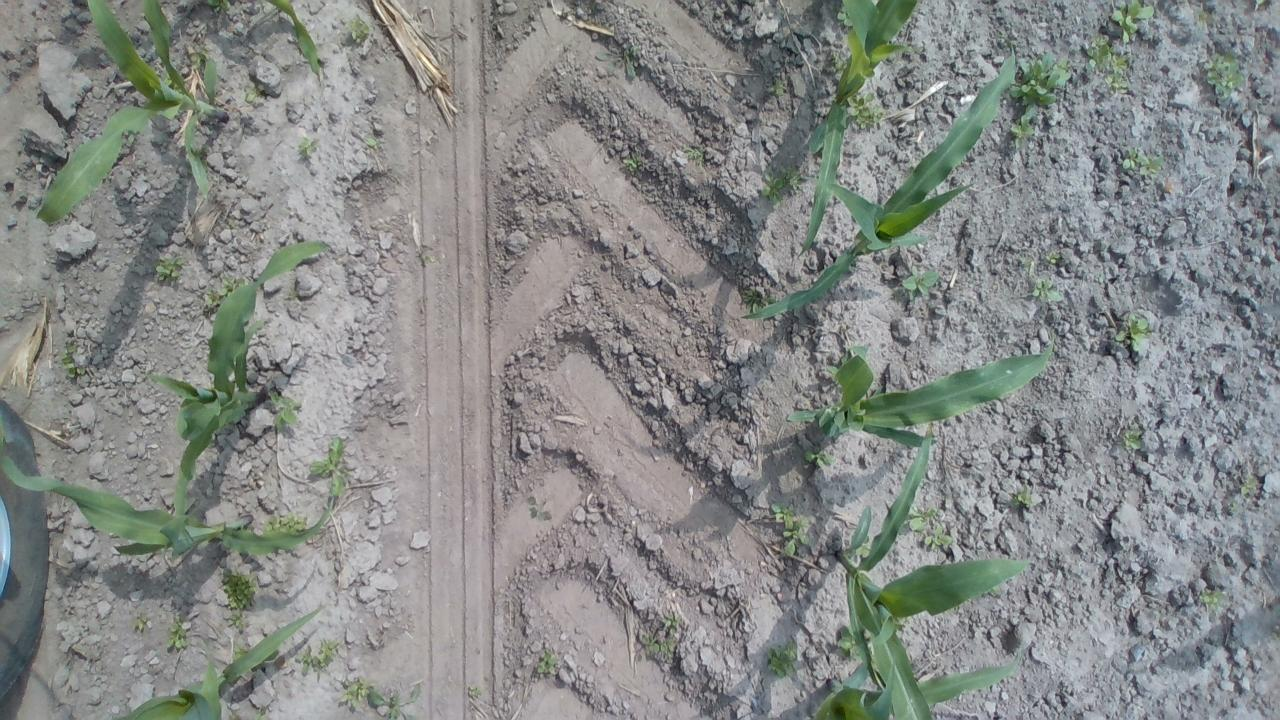Maize: (739, 36, 1018, 320), (836, 421, 1034, 720), (142, 239, 332, 512), (0, 414, 336, 556), (36, 1, 230, 225), (795, 0, 918, 262), (785, 340, 1054, 446), (112, 603, 324, 720), (814, 644, 1024, 720), (264, 0, 320, 78)
Weeds: (1010, 50, 1076, 108), (308, 433, 351, 498), (771, 500, 814, 559), (1204, 49, 1250, 102), (1114, 0, 1158, 45), (368, 683, 421, 720), (296, 638, 338, 678), (764, 632, 800, 678), (202, 275, 244, 314), (846, 92, 888, 130), (1114, 310, 1152, 352), (595, 46, 640, 80), (900, 264, 942, 300), (224, 568, 258, 612), (268, 390, 304, 430), (1122, 147, 1166, 177), (60, 336, 90, 380), (341, 674, 370, 716), (1104, 50, 1130, 96), (1084, 31, 1113, 72), (1008, 110, 1038, 148), (640, 630, 676, 658), (1030, 278, 1066, 304), (800, 445, 840, 468), (154, 255, 188, 282), (738, 290, 776, 312), (347, 11, 372, 44), (759, 171, 783, 205), (908, 505, 936, 533), (166, 616, 188, 651), (924, 526, 955, 550), (781, 162, 804, 194), (836, 623, 856, 659), (1120, 423, 1144, 452), (526, 495, 552, 521), (1199, 586, 1226, 611), (1008, 482, 1034, 507), (296, 136, 322, 160), (241, 84, 269, 106), (535, 648, 557, 676), (285, 510, 309, 535), (226, 611, 248, 636), (661, 610, 686, 632), (824, 50, 846, 74), (682, 144, 706, 166), (1238, 474, 1260, 497), (622, 152, 644, 174), (417, 244, 439, 266), (206, 0, 232, 14), (133, 611, 150, 632), (836, 6, 852, 28), (1196, 9, 1216, 26), (264, 515, 284, 532), (468, 683, 486, 700), (769, 81, 788, 97), (854, 545, 873, 560), (1045, 250, 1062, 266), (284, 282, 299, 300), (254, 705, 269, 720), (1020, 258, 1034, 274), (233, 646, 249, 660), (364, 136, 382, 148), (1228, 501, 1242, 514), (1094, 271, 1105, 286), (224, 218, 236, 231), (989, 588, 1002, 594), (1254, 0, 1267, 4)
